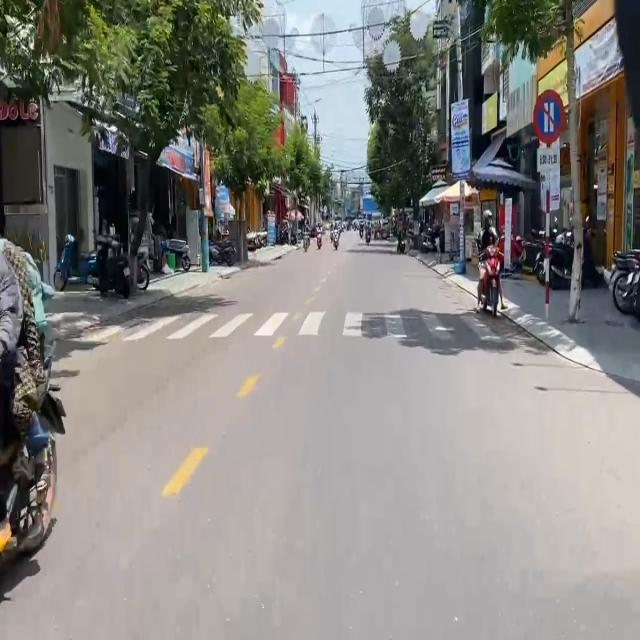walk-crossing: (94, 302, 523, 347)
